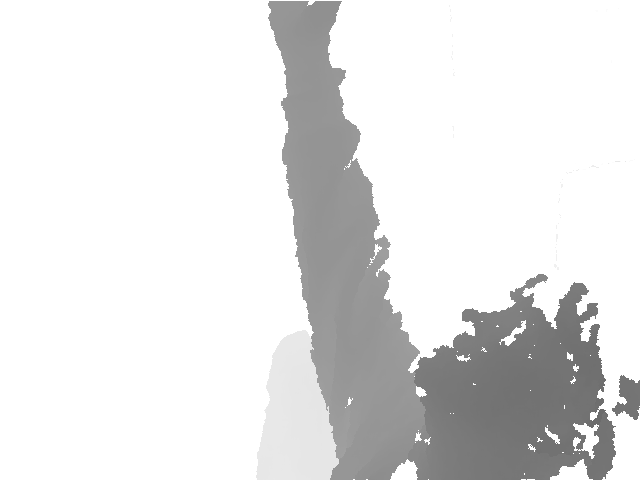hand: (263, 1, 345, 53)
head: (414, 273, 622, 480)
person: (263, 1, 640, 480)
